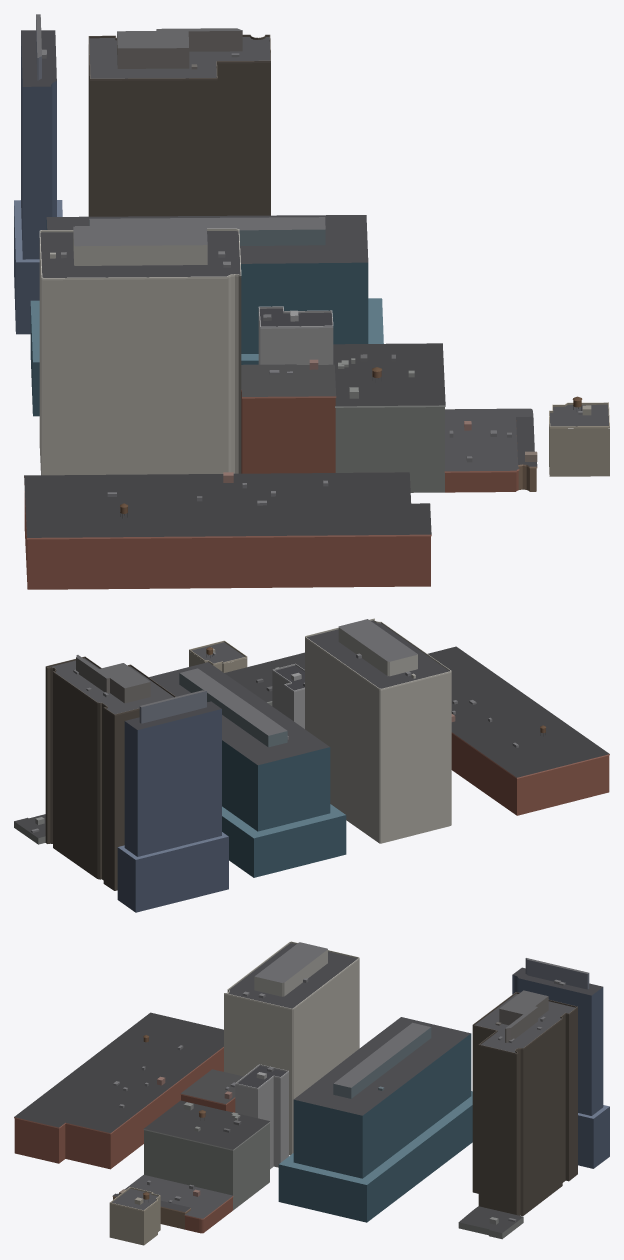
The model's file is -2_5.bld.glb.
3 views of the same model, one above another, from view 1: azimuth 30°, elevation 25°; view 2: azimuth 150°, elevation 25°; view 3: azimuth 270°, elevation 25° (orthographic). The views are drawn at different scales.
Visible parts, largest first — view 1: -2_5; view 2: -2_5; view 3: -2_5.
Part boxes in pixels (x1,y1,x2,y2): -2_5: (14,14,609,589); -2_5: (14,618,609,912); -2_5: (14,941,609,1245).
Bounding box in the file's own units: 276 × 122 × 354.
